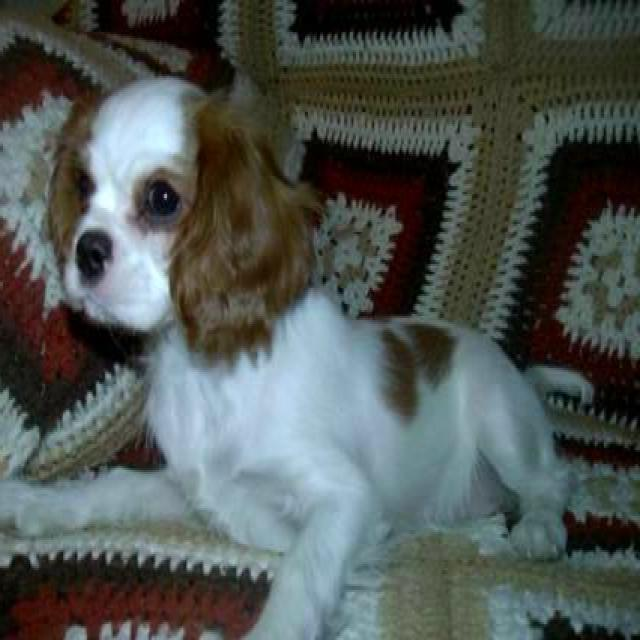blenheim_spaniel: (17, 80, 594, 638)
